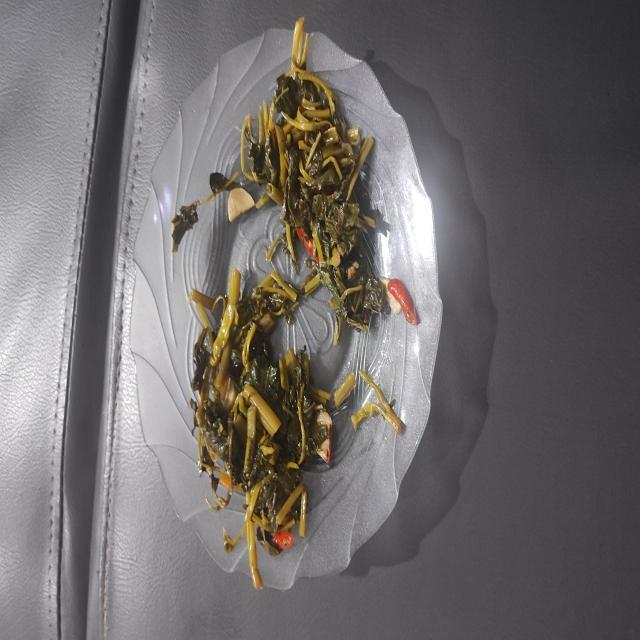tumis_kangkung: (240, 18, 420, 344), (190, 268, 356, 588)
